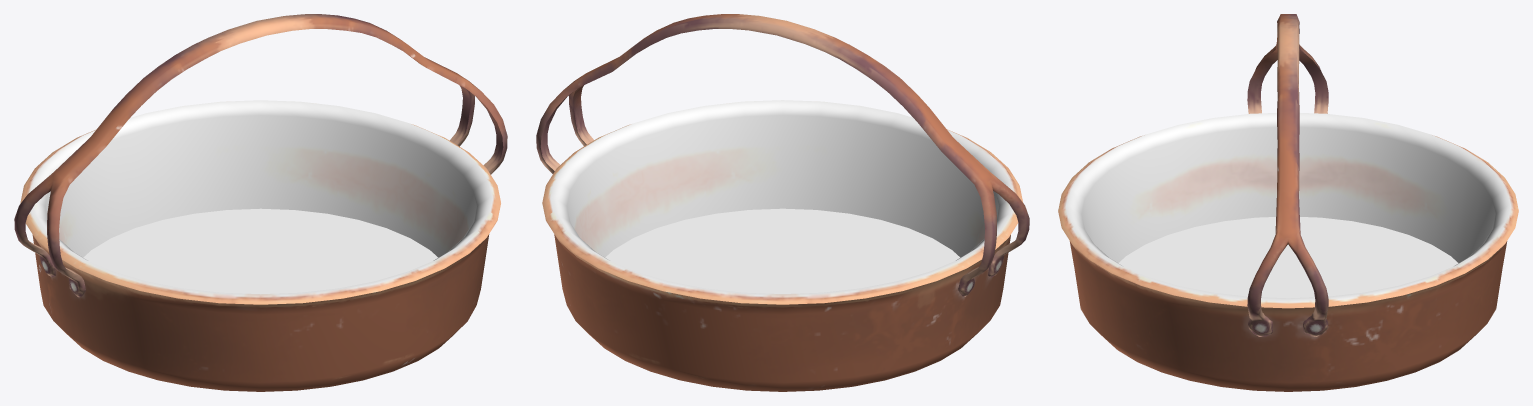
File: SM_Potion_Props_Bowl_03.fbx
3 renders of one model, left to right at view 1: azimuth 30°, elevation 25°; view 2: azimuth 150°, elevation 25°; view 3: azimuth 270°, elevation 25°, orthographic. The views are drawn at different scales.
Visible parts, largest first — view 1: SM_Potion_Props_Bowl_03_LOD0; view 2: SM_Potion_Props_Bowl_03_LOD0; view 3: SM_Potion_Props_Bowl_03_LOD0.
Part boxes in pixels (x1=…): SM_Potion_Props_Bowl_03_LOD0: x1=14, y1=14, x2=507, y2=391; SM_Potion_Props_Bowl_03_LOD0: x1=536, y1=14, x2=1029, y2=391; SM_Potion_Props_Bowl_03_LOD0: x1=1058, y1=14, x2=1518, y2=391.
Size of what is drawn, in the model's own units: 45.45 by 26.74 by 41.47.
